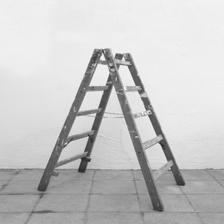Ladder: (19, 20, 209, 193), (102, 36, 208, 189), (40, 36, 118, 187)
